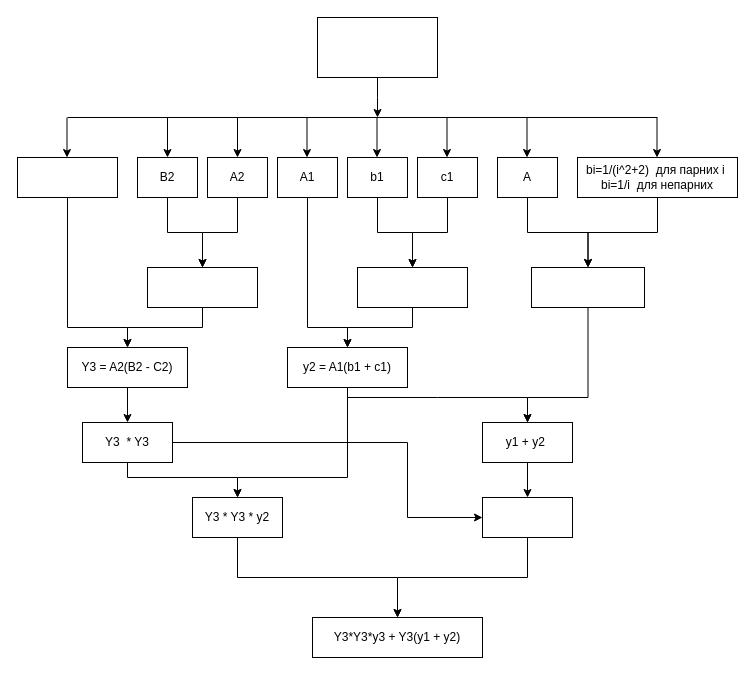
Some shapes in this 755 by 675 pixel diagram are drawn without their labels. The box of each missing label's shape, as (x1, y1, x2, y2) in pixels:
b1 + c1: (356, 266, 468, 308)
B2 - A2: (146, 266, 258, 308)
Cij = 1/(i + 2j): (16, 156, 118, 198)
y1 = A * b: (530, 266, 644, 308)
Y3(y1 + y2): (482, 496, 572, 538)
Ввід n: (316, 16, 438, 78)
